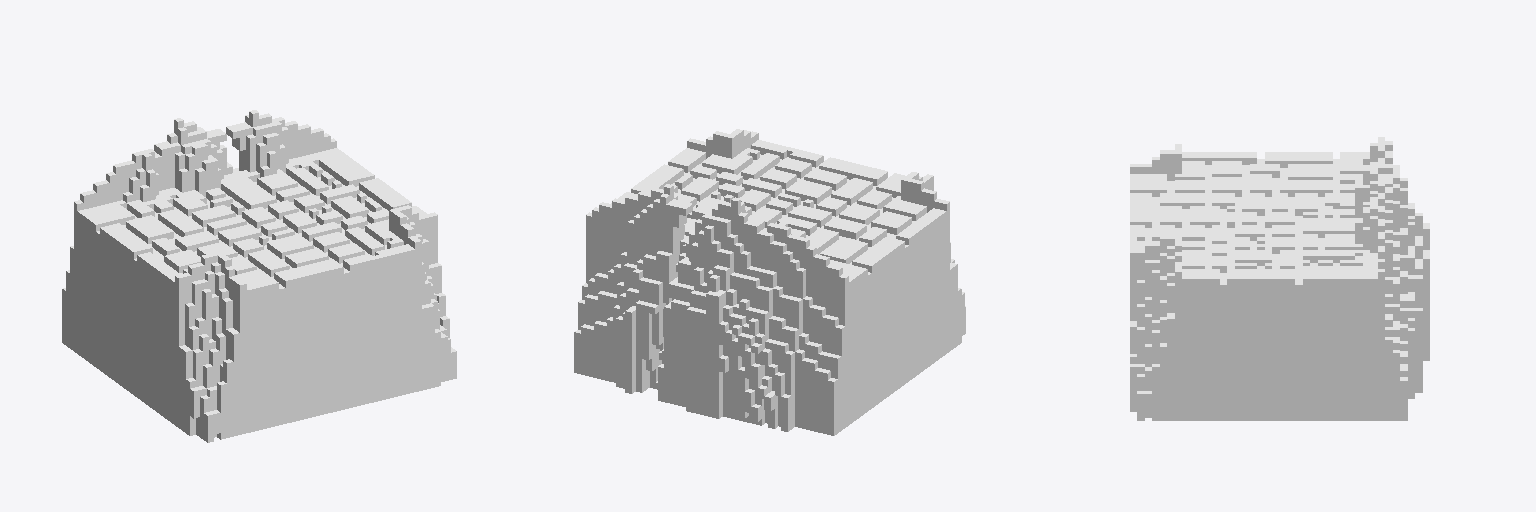
The model's file is T_Corner_Ice.obj.
3 views of the same model, side by side, from view 1: azimuth 30°, elevation 25°; view 2: azimuth 150°, elevation 25°; view 3: azimuth 270°, elevation 25° (orthographic).
Size of the model in its own units: 40 by 30 by 40.